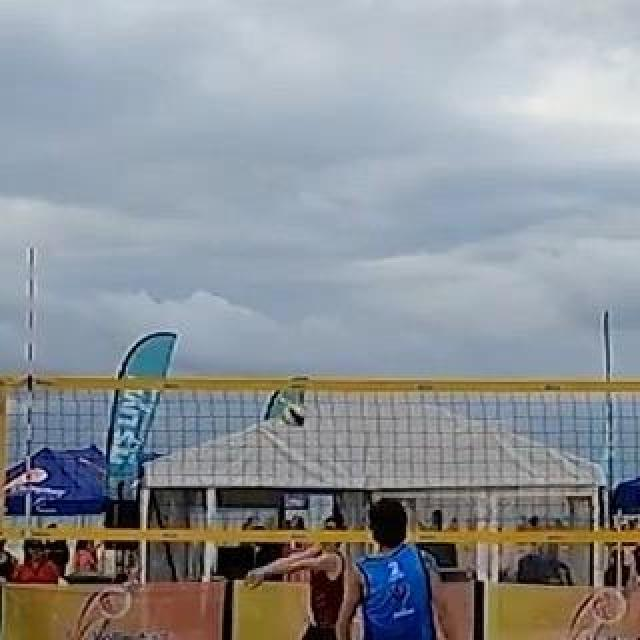volleyball: (285, 407, 303, 427)
